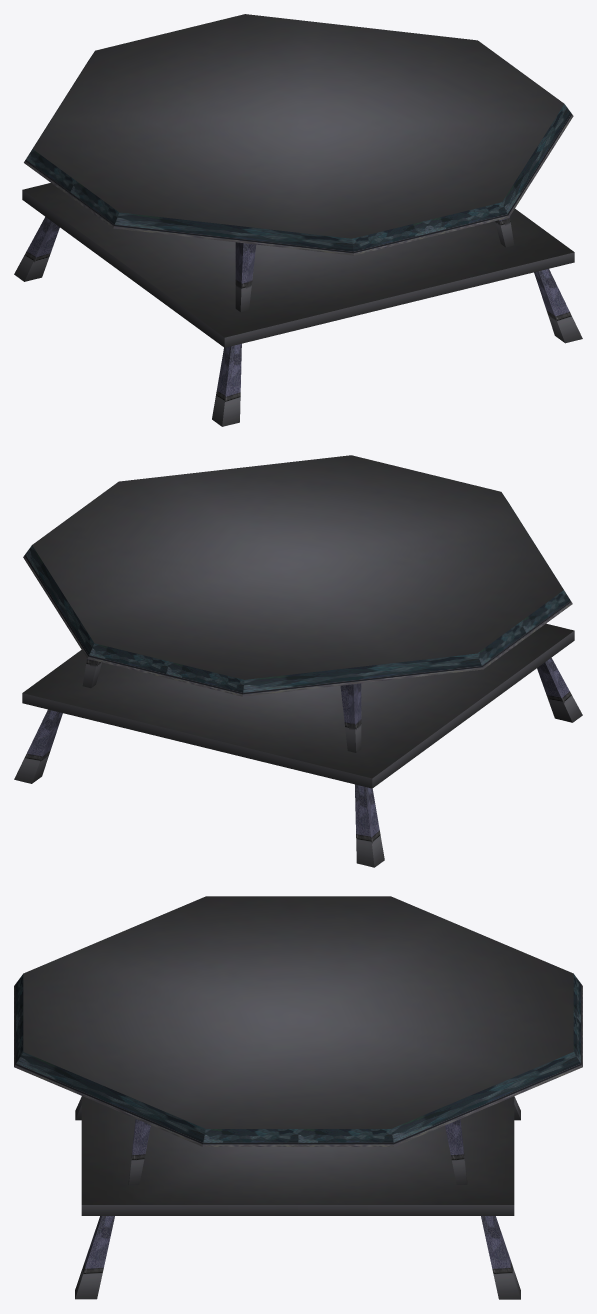
File: platform_2s_body.DAE
3 views of the same model, one above another, from view 1: azimuth 30°, elevation 25°; view 2: azimuth 150°, elevation 25°; view 3: azimuth 270°, elevation 25° (orthographic). The views are drawn at different scales.
Visible parts, largest first — view 1: building_ledge04-Pivot; view 2: building_ledge04-Pivot; view 3: building_ledge04-Pivot.
Part boxes in pixels (left/top/right/bottom): building_ledge04-Pivot: left=14, top=14, right=582, bottom=426; building_ledge04-Pivot: left=14, top=455, right=582, bottom=867; building_ledge04-Pivot: left=14, top=896, right=582, bottom=1299.
Bounding box in the file's own units: 96.48 × 36.06 × 96.48.
